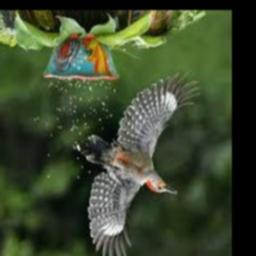Woodpecker: (79, 75, 200, 256)
